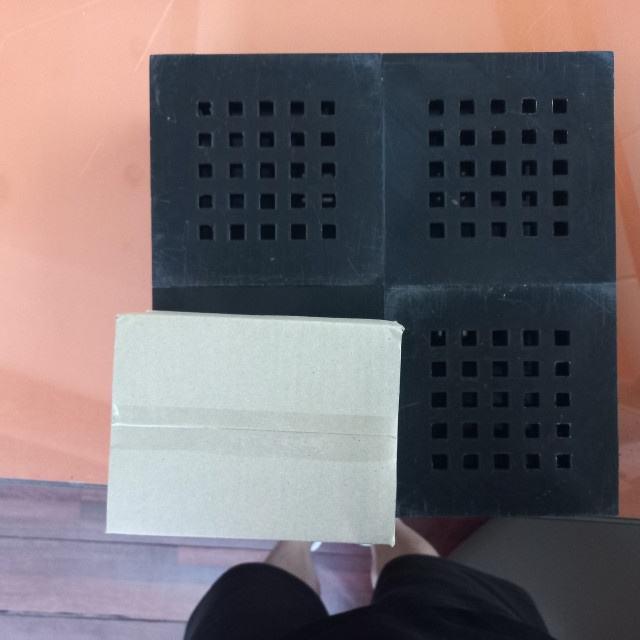box: (106, 309, 402, 548)
pallet: (139, 49, 625, 525)
